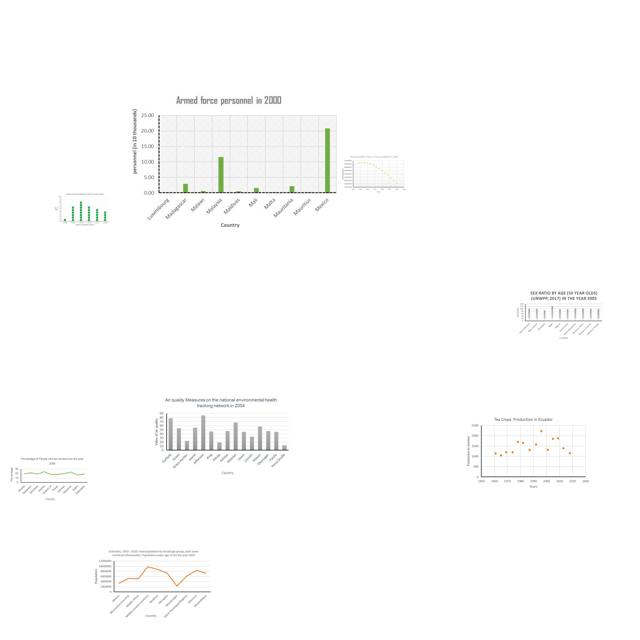Graph: (128, 93, 340, 230), (151, 396, 291, 476), (464, 416, 590, 490), (94, 548, 213, 619), (514, 289, 604, 340), (8, 456, 89, 502), (342, 155, 406, 193), (53, 192, 110, 227)
